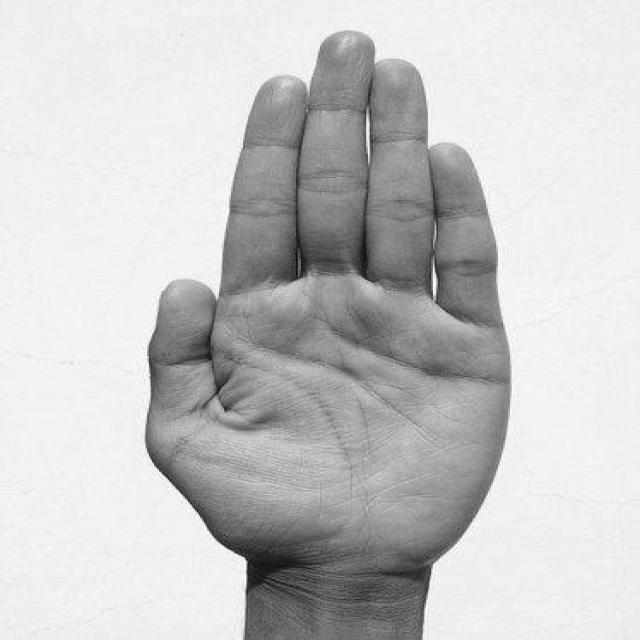stop: (137, 22, 522, 592)
